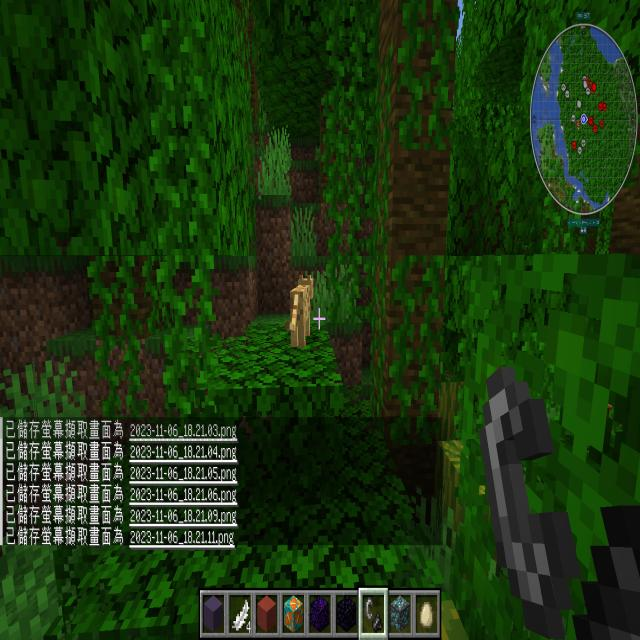Ocelot: (277, 264, 321, 358)
